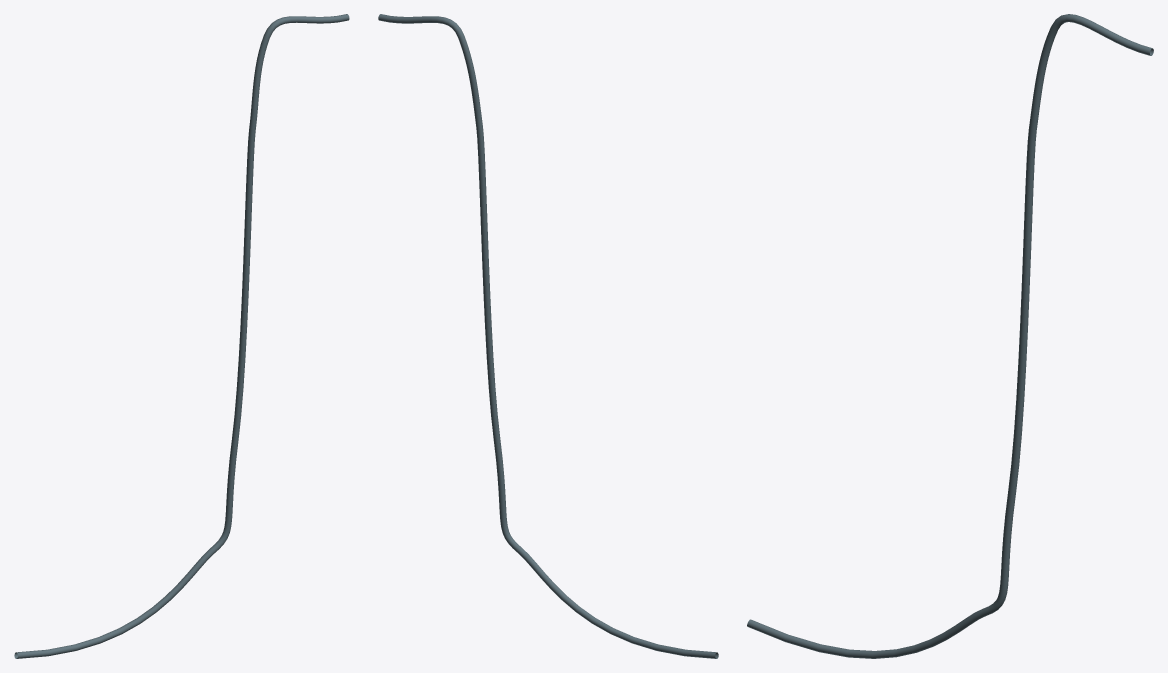
Rendered from ElecWire14.fbx.
The picture shows the model from 3 angles, left to right: view 1: azimuth 30°, elevation 25°; view 2: azimuth 150°, elevation 25°; view 3: azimuth 330°, elevation 25°; orthographic projection. The views are drawn at different scales.
Visible parts, largest first — view 1: ElecWire14_LOD0; view 2: ElecWire14_LOD0; view 3: ElecWire14_LOD0.
Boxes of the visible parts, <box> form: ElecWire14_LOD0: <box>14,14,349,658</box>; ElecWire14_LOD0: <box>378,14,718,658</box>; ElecWire14_LOD0: <box>747,14,1153,658</box>.
Size of what is drawn, in the model's own units: 824 by 1369 by 22.57.
